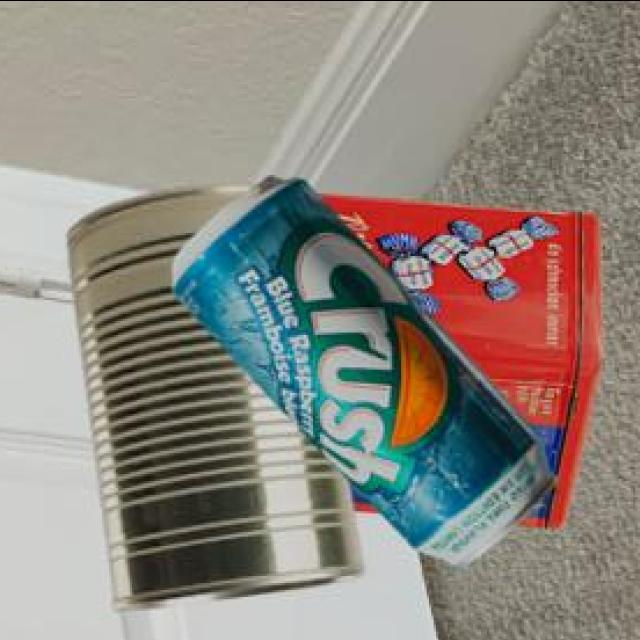logam: (170, 182, 553, 572), (64, 187, 361, 612), (317, 198, 599, 530)
